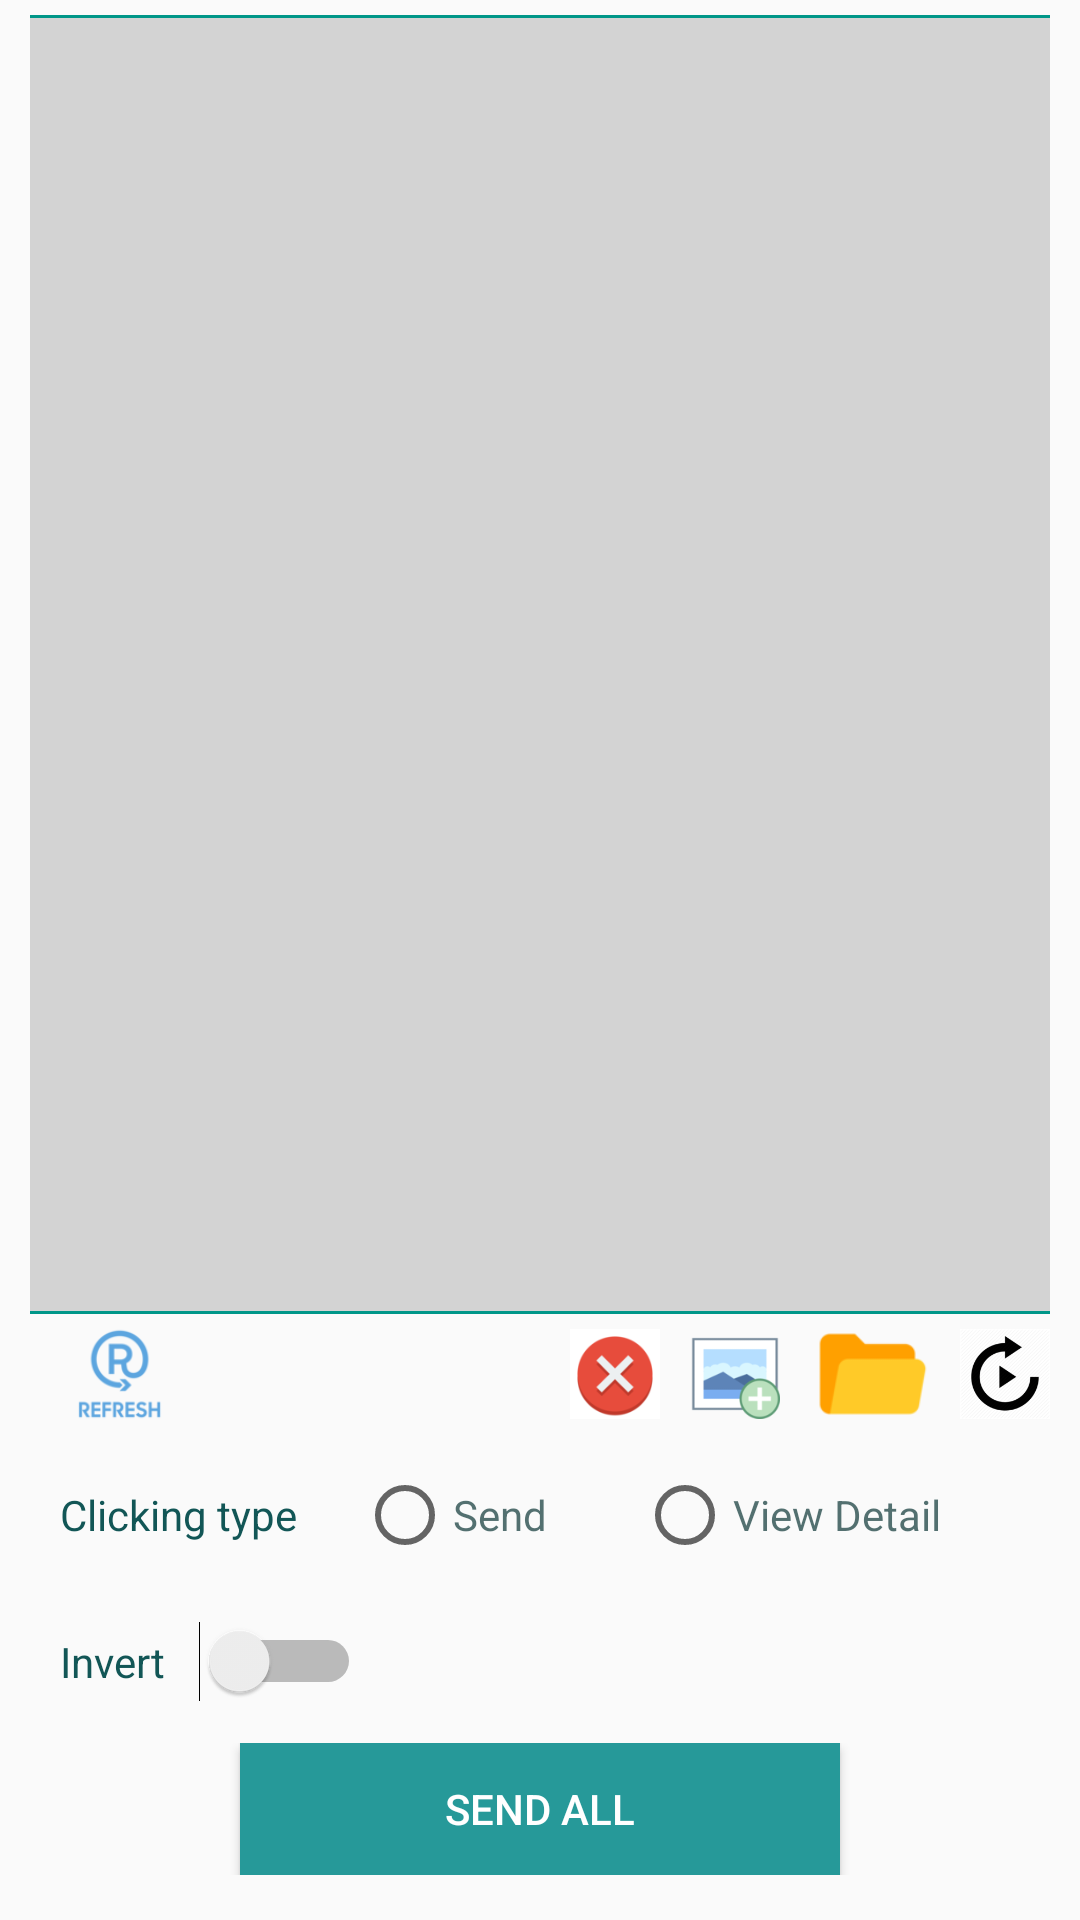

Icons on this 1080x1920 Android screen, each with the point to tap as (x,y):
add: (736,1378)
delete: (615,1376)
folder: (872,1374)
replay: (1005,1373)
